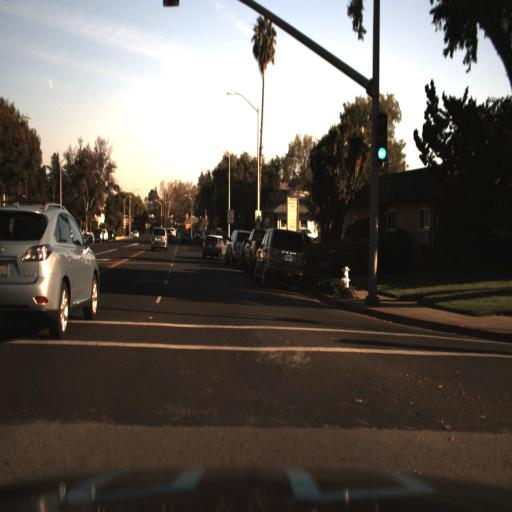car: (0, 189, 101, 350), (0, 201, 101, 340), (254, 226, 313, 300), (241, 224, 267, 271), (197, 232, 226, 264), (224, 228, 249, 264), (225, 230, 244, 276), (242, 224, 257, 282), (199, 232, 228, 259), (150, 224, 171, 253), (178, 224, 193, 248), (178, 227, 192, 248), (92, 223, 105, 244), (92, 226, 106, 244)
trafficLight-Green: (371, 108, 390, 169), (373, 137, 390, 172)
